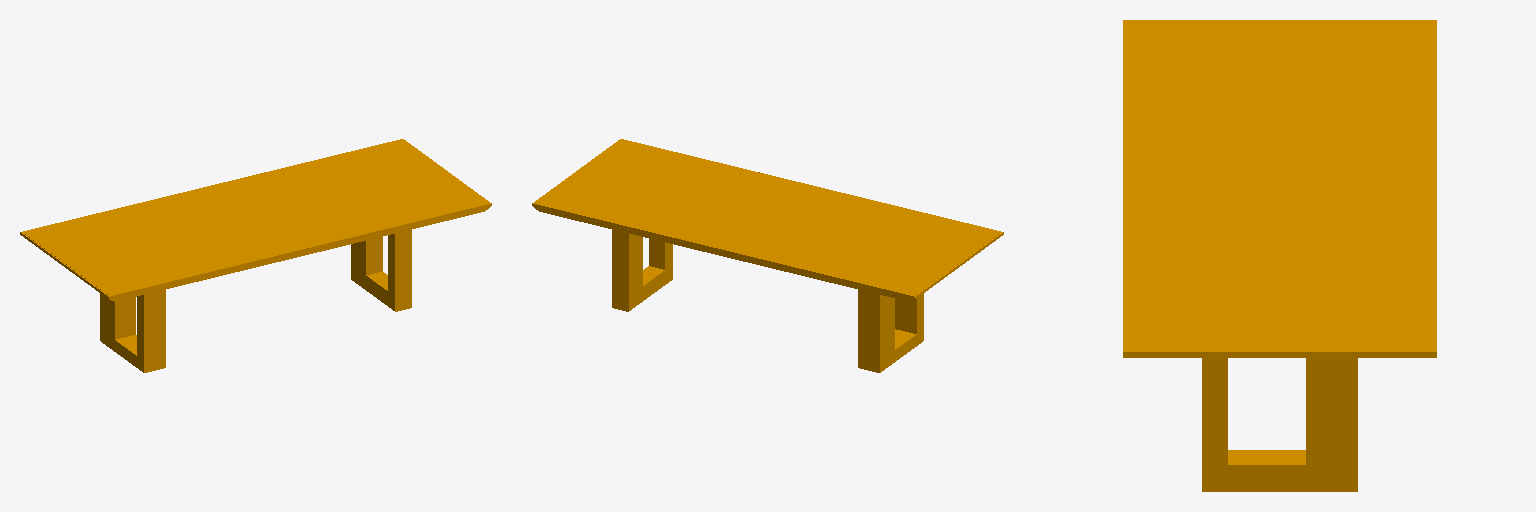
The robot description file, URDF, robot "51cef4b98624473e193a311b8faf4ace":
<?xml version="1.0" ?>
<robot name="51cef4b98624473e193a311b8faf4ace">

  <link name="base">

    <inertial>
      <mass value="1"/>
      <inertia ixx="1" ixy="0" ixz="0" iyy="1" iyz="0" izz="1"/>
    </inertial>

    <visual>
      <origin rpy="1.57079 0 0" xyz="0 0 0.11"/>
      <geometry>
        <mesh filename ="models/model_normalized.obj" scale="1 1 1"/>
      </geometry>
    </visual>

    <collision>
      <origin rpy="1.57079 0 0" xyz="0 0 0.11"/>
      <geometry>
        <mesh filename ="models/model_normalized.obj" scale="1 1 1"/>
      </geometry>
    </collision>

  </link>
  
</robot>

--- What the picture shows (computed from the rendered views, not written in the file) ---
Views: 3 orthographic renders of the robot side by side, from view 1: azimuth 30°, elevation 25°; view 2: azimuth 150°, elevation 25°; view 3: azimuth 270°, elevation 25°.
Model 51cef4b98624473e193a311b8faf4ace with 1 links and 0 joints (none), rooted at base, posed all joints at 0.
Visible links, largest first — view 1: base; view 2: base; view 3: base.
Link boxes in pixels (<box>): base: <box>20,139,491,372</box>; base: <box>532,139,1003,372</box>; base: <box>1123,20,1436,491</box>.
Bounding box of the posed robot: 0.5073 × 0.2029 × 0.1353 m (x, y, z).
Meshes: 1 distinct files referenced, 1 mesh visuals loaded (1 OBJ).